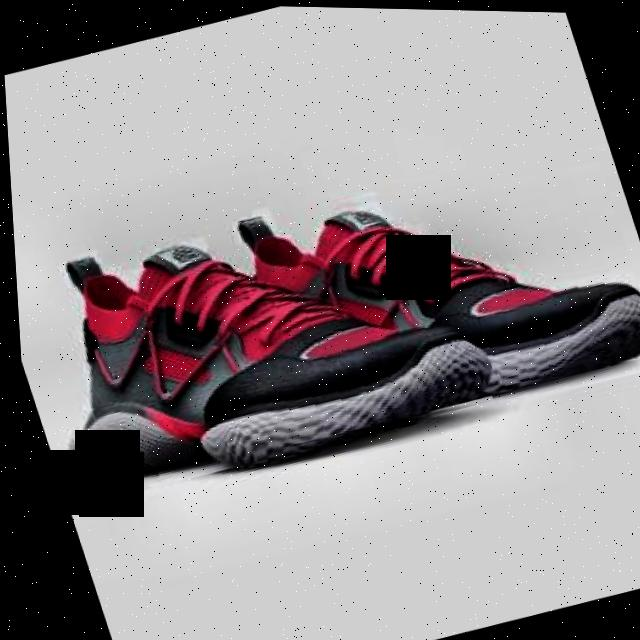shoe: (8, 166, 494, 512), (194, 123, 640, 455)
